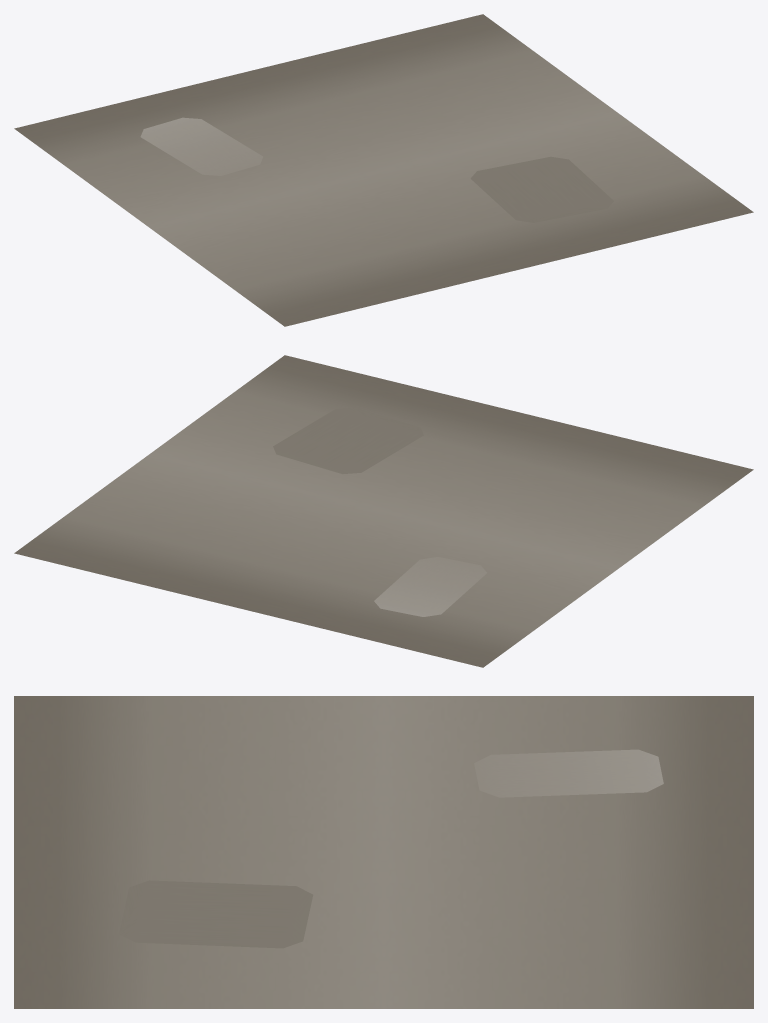
The model's file is path_park_tile_x2_internal.fbx.
The picture shows the model from 3 angles, top to bottom: view 1: azimuth 30°, elevation 25°; view 2: azimuth 150°, elevation 25°; view 3: azimuth 270°, elevation 25°; orthographic projection. The views are drawn at different scales.
Visible parts, largest first — view 1: path_park_tile_x2_internal; view 2: path_park_tile_x2_internal; view 3: path_park_tile_x2_internal.
Boxes of the visible parts, x1,y1,x2,y2 form: path_park_tile_x2_internal: (14, 14, 753, 326); path_park_tile_x2_internal: (14, 355, 753, 667); path_park_tile_x2_internal: (14, 696, 753, 1008).
Size of the model in its own units: 400 by 1.58 by 400.
